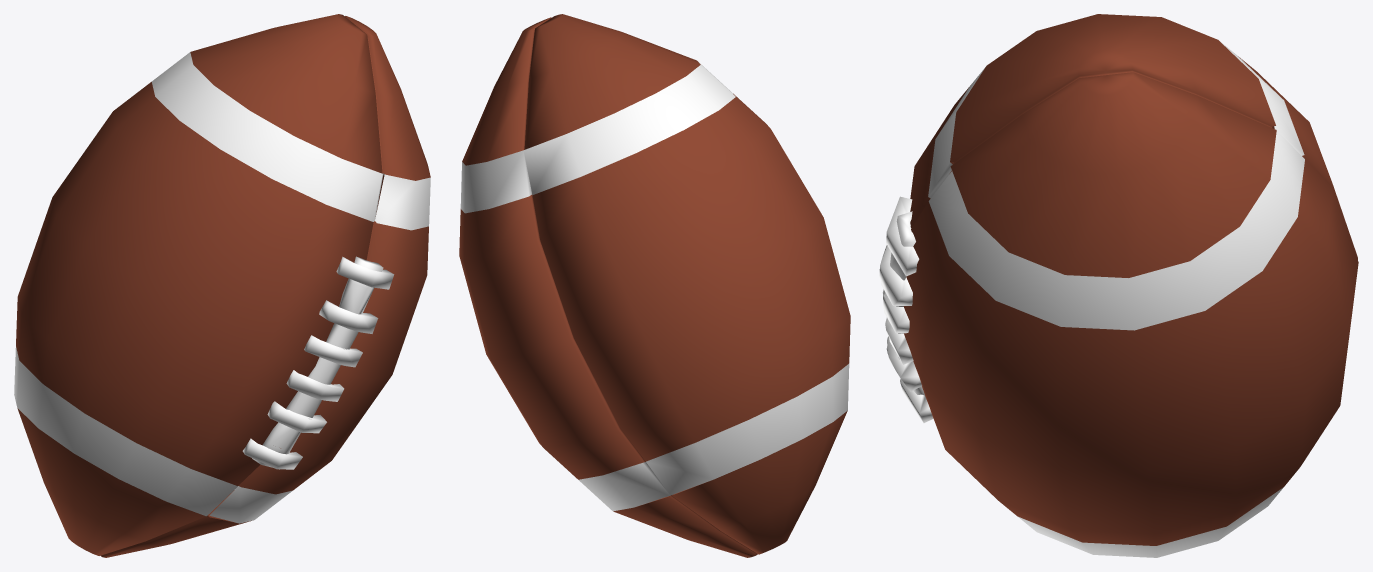
Rendered from brown_usball.glb.
3 views of the same model, side by side, from view 1: azimuth 30°, elevation 25°; view 2: azimuth 150°, elevation 25°; view 3: azimuth 270°, elevation 25° (orthographic). The views are drawn at different scales.
Visible parts, largest first — view 1: Brown_USBall; view 2: Brown_USBall; view 3: Brown_USBall.
Boxes of the visible parts, x1,y1,x2,y2 form: Brown_USBall: [14, 14, 430, 557]; Brown_USBall: [459, 14, 850, 557]; Brown_USBall: [879, 14, 1358, 557].
Bounding box in the file's own units: 0.4794 × 0.6108 × 0.4433.
Materials: 1 (1 with a texture image).
